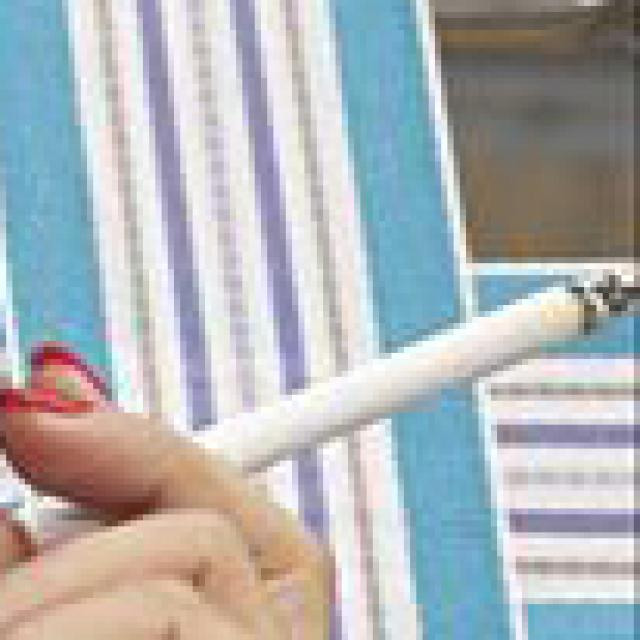smoking: (14, 270, 630, 556)
